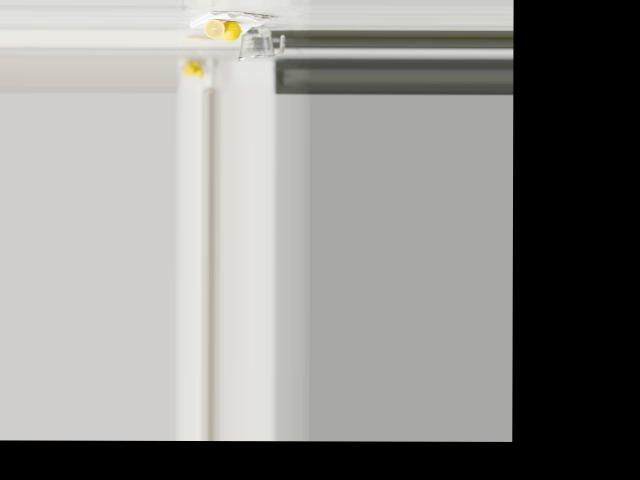lemon: (217, 21, 243, 41)
